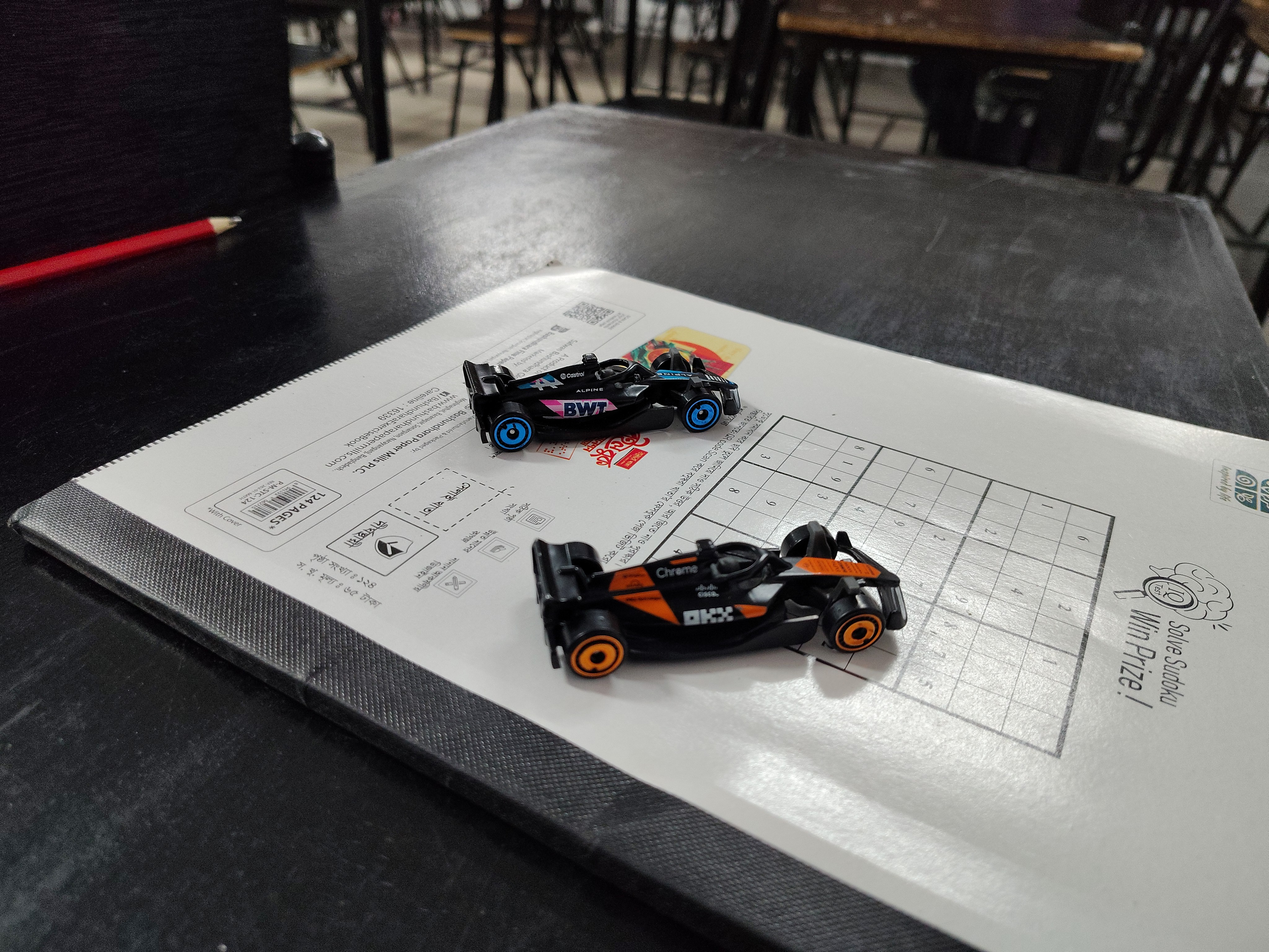Alpine A524: (395, 304, 813, 468)
McLaren MCL40: (460, 494, 976, 671)
